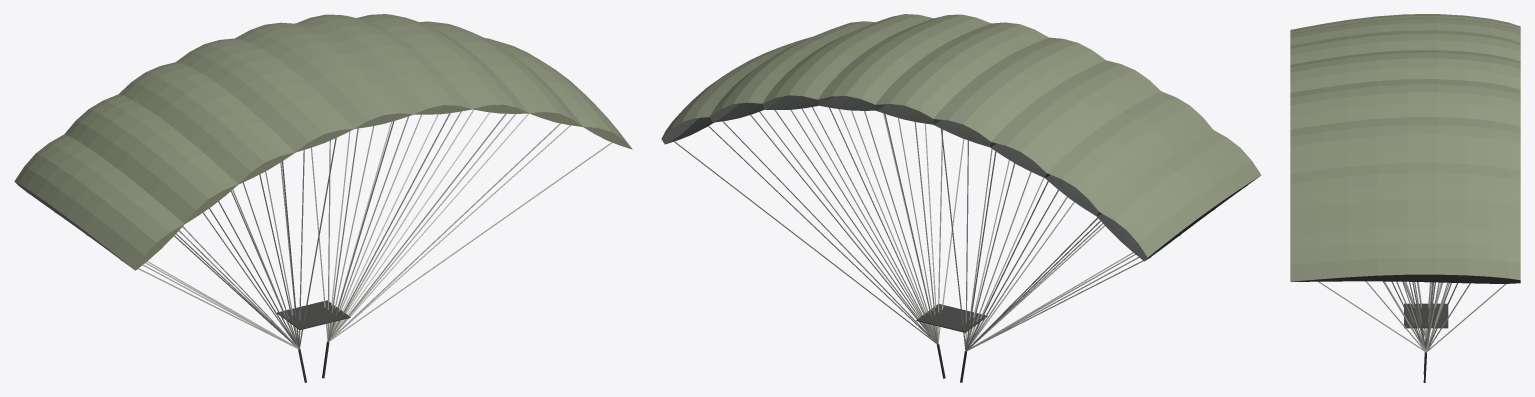
The model's file is AirborneCanopy.fbx.
3 views of the same model, side by side, from view 1: azimuth 30°, elevation 25°; view 2: azimuth 150°, elevation 25°; view 3: azimuth 270°, elevation 25° (orthographic). The views are drawn at different scales.
Parts seen in each view (by area): view 1: AirborneCanopy; view 2: AirborneCanopy; view 3: AirborneCanopy.
Boxes of the visible parts, <box> form: AirborneCanopy: <box>14,14,632,382</box>; AirborneCanopy: <box>661,14,1261,382</box>; AirborneCanopy: <box>1290,14,1520,382</box>.
Bounding box in the file's own units: 712 × 437 × 285.
